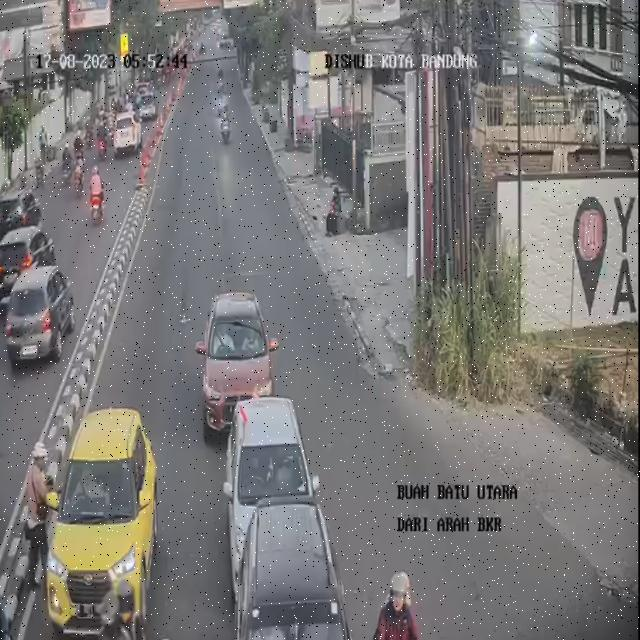cars: (46, 411, 162, 640), (220, 396, 318, 592), (226, 503, 357, 639), (202, 286, 277, 438)
motorcycle: (370, 561, 421, 640), (94, 573, 150, 640), (217, 99, 234, 147)
